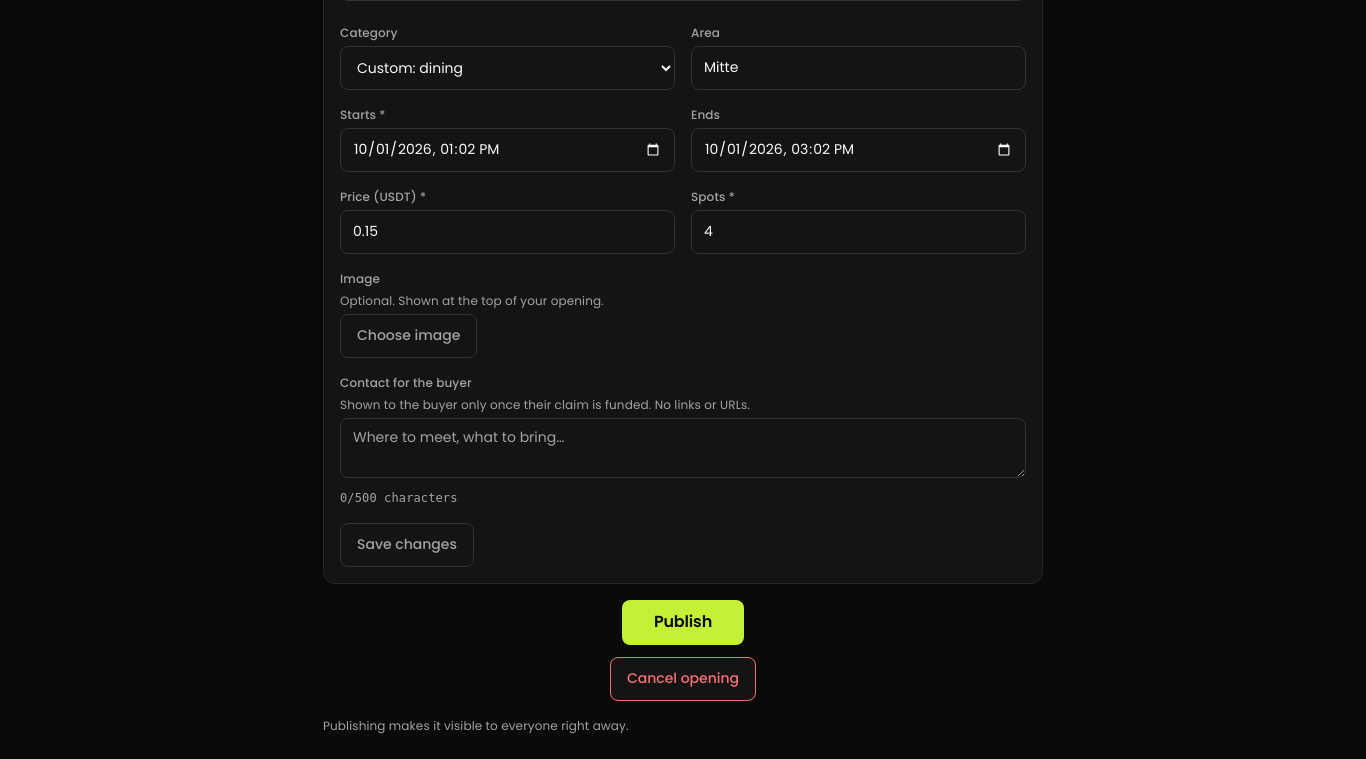
Scenario: dialog focus management › Escape dismisses the inline cancel confirmation
(page scrolled)
Click the button "Cancel opening".
click(683, 679)  # box [610, 657, 756, 701]
(page scrolled)
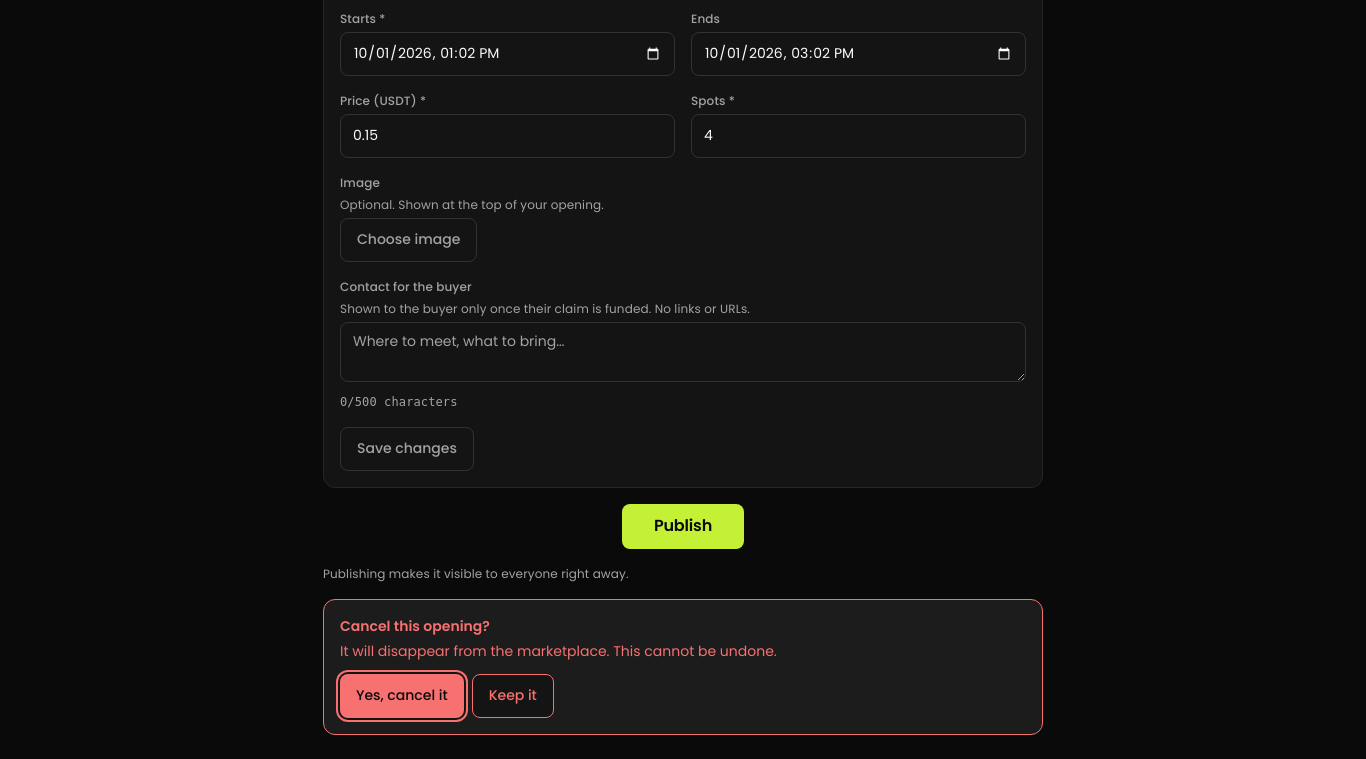
Result: the dialog is shown at [323, 599, 1043, 735]
Press Escape
(page scrolled)
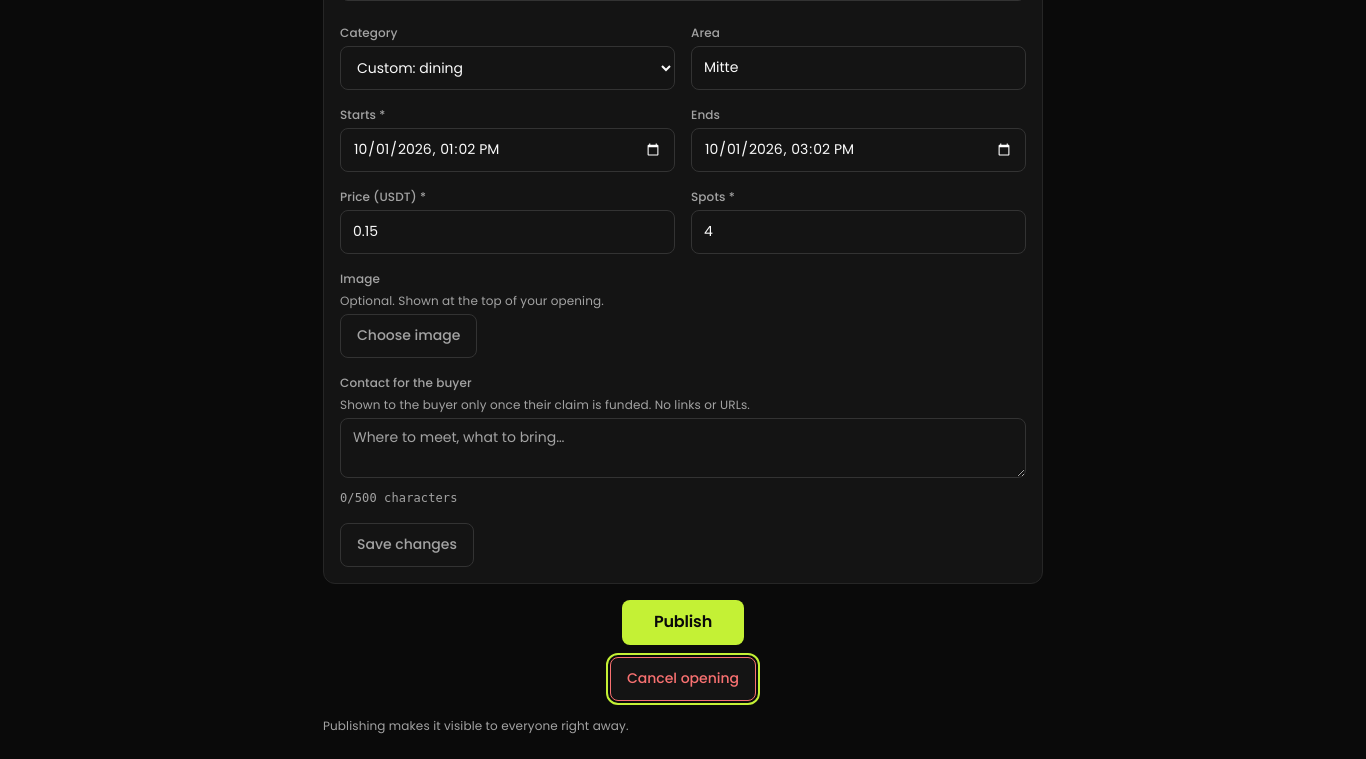
Result: the dialog is gone
